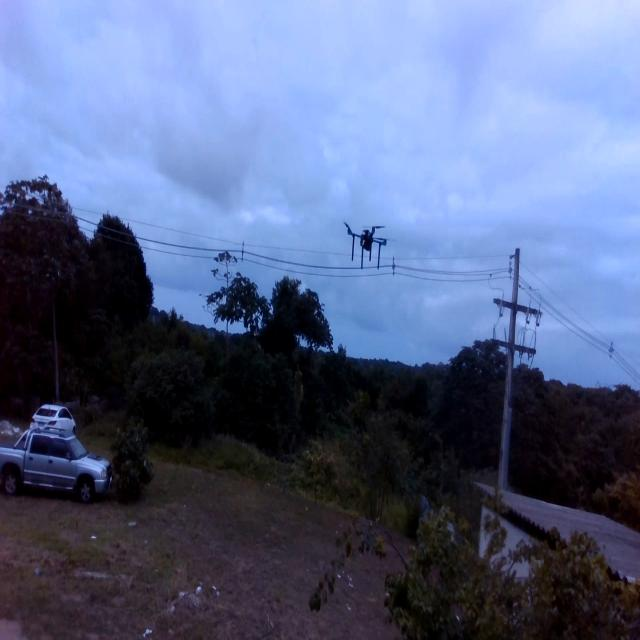-uav-: (339, 206, 407, 296)
